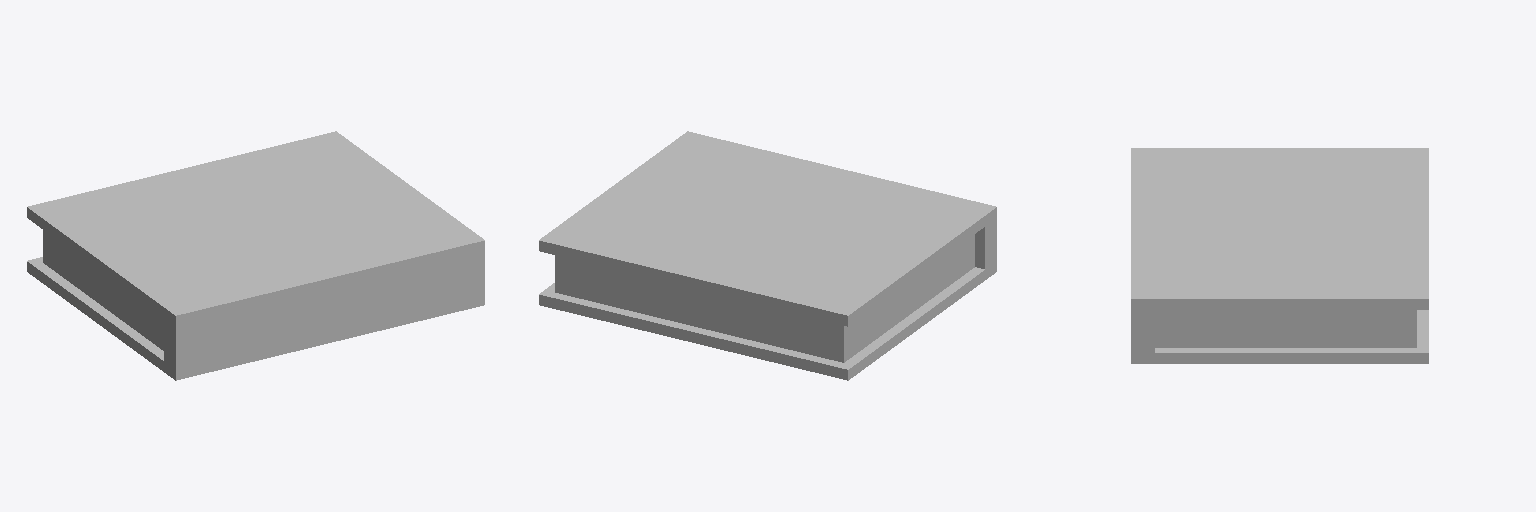
File: book1.obj
The picture shows the model from 3 angles: view 1: azimuth 30°, elevation 25°; view 2: azimuth 150°, elevation 25°; view 3: azimuth 270°, elevation 25°; orthographic projection.
Visible parts, largest first — view 1: object 1; view 2: object 1; view 3: object 1.
Part boxes in pixels (left/top/right/bottom): object 1: left=27, top=131, right=484, bottom=380; object 1: left=539, top=131, right=996, bottom=380; object 1: left=1131, top=148, right=1428, bottom=363.
Size of the model in its own units: 3 by 0.6 by 2.5.